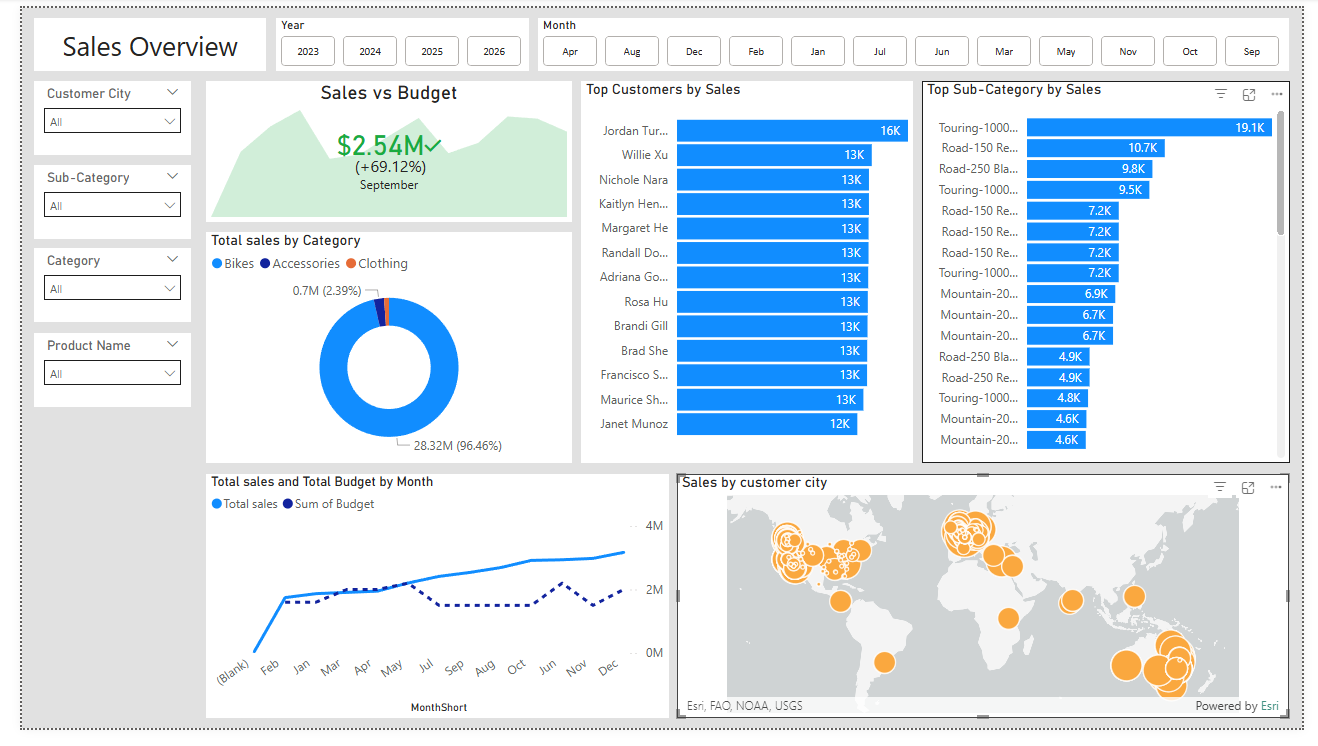

The dashboard page shown, as its layout file describes it:
{"tool":"powerbi","page":{"name":"Page 1","canvas":[1280,720],"ordinal":0},"visuals":[{"type":"textbox","box":[11.7,9.7,232.5,53.5],"z":0},{"type":"slicer","fields":{"Values":["DIM_customer.customerCity"]},"box":[11.7,73,157.6,73.9],"z":1000},{"type":"slicer","fields":{"Values":["DIM_product.subCategory"]},"box":[11.7,156.6,157.6,73.9],"z":2000},{"type":"slicer","fields":{"Values":["DIM_product.Category"]},"box":[11.7,240.3,157.6,73.9],"z":3000},{"type":"slicer","fields":{"Values":["DIM_product.ProductName"]},"box":[11.7,324.9,157.6,73.9],"z":4000},{"type":"advancedSlicerVisual","fields":{"Values":["DIM_calender.Year"]},"box":[253.9,9.7,252.9,53.5],"z":5000},{"type":"advancedSlicerVisual","title":"Month","fields":{"Values":["DIM_calender.MonthShort"]},"box":[515.5,9.7,751.9,53.5],"z":6000},{"type":"kpi","title":"Sales vs Budget","fields":{"Indicator":["FACT_internetSales.Total sales"],"Goal":["FACT_internetSales.Total Budget"],"TrendLine":["DIM_calender.Month"]},"box":[183.8,72.9,365.7,141],"z":7000},{"type":"donutChart","fields":{"Y":["FACT_internetSales.Total sales"],"Category":["DIM_product.Category"]},"box":[183.8,223.7,365.7,231.5],"z":8000},{"type":"lineChart","title":"Total sales and Total Budget by Month","fields":{"Y2":["FACT_internetSales.Total sales","FACT_budget.Budget"],"Category":["DIM_calender.MonthShort"]},"box":[184.1,466.1,463.4,243.9],"z":9000},{"type":"clusteredBarChart","title":"Top Customers by Sales","fields":{"Category":["DIM_customer.FullName"],"Y":["FACT_internetSales.Total sales"]},"box":[558.6,72.5,332.8,382.7],"z":10000},{"type":"clusteredBarChart","title":"Top Sub-Category by Sales","fields":{"Y":["FACT_internetSales.Total sales"],"Category":["DIM_product.ProductName"]},"box":[899.5,72.5,368.2,382.7],"z":11000},{"type":"esriVisual","title":"Sales by customer city","fields":{"Location":["DIM_customer.customerCity"],"Size":["FACT_internetSales.SalesAmount"]},"box":[654.6,465.9,612.8,244.1],"z":12000}]}

Visuals, with their boxes in screenshot pixels (x1, y1, x2, y2), scaled from the page's 1280x720 canvas onto the 1318x746 screenshot:
textbox: bbox(12, 10, 251, 65)
slicer - DIM_customer.customerCity: bbox(12, 76, 174, 152)
slicer - DIM_product.subCategory: bbox(12, 162, 174, 239)
slicer - DIM_product.Category: bbox(12, 249, 174, 326)
slicer - DIM_product.ProductName: bbox(12, 337, 174, 413)
advancedSlicerVisual - DIM_calender.Year: bbox(261, 10, 522, 65)
"Month" advancedSlicerVisual: bbox(531, 10, 1305, 65)
"Sales vs Budget" kpi: bbox(189, 76, 566, 222)
donutChart - FACT_internetSales.Total sales x DIM_product.Category: bbox(189, 232, 566, 472)
"Total sales and Total Budget by Month" lineChart: bbox(190, 483, 667, 736)
"Top Customers by Sales" clusteredBarChart: bbox(575, 75, 918, 472)
"Top Sub-Category by Sales" clusteredBarChart: bbox(926, 75, 1305, 472)
"Sales by customer city" esriVisual: bbox(674, 483, 1305, 736)
